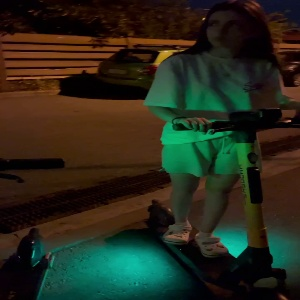human on a scooter: (138, 1, 300, 300)
